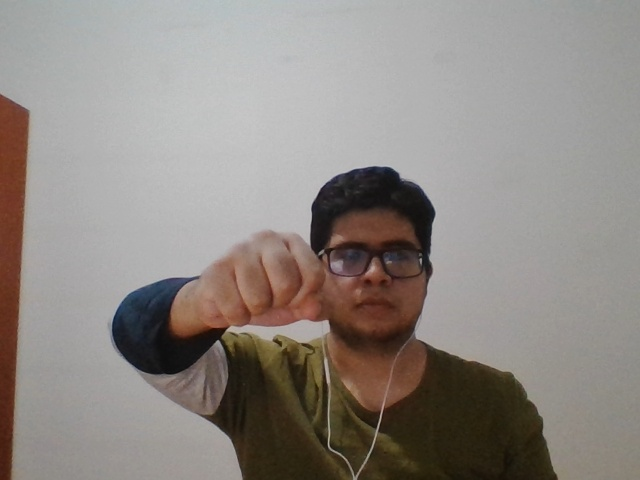Yes: (194, 221, 340, 334)
